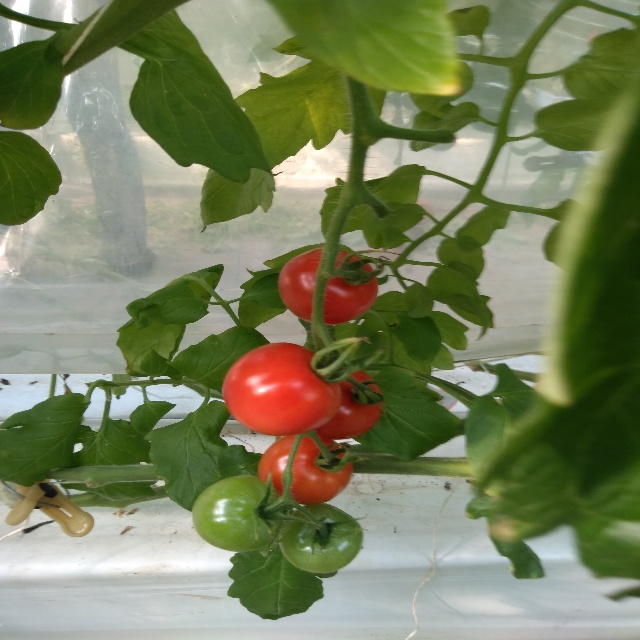l_fully_ripened: (221, 342, 341, 436), (277, 248, 378, 325), (259, 431, 354, 505), (309, 363, 382, 440)
l_green: (192, 475, 285, 552), (277, 503, 363, 573)
